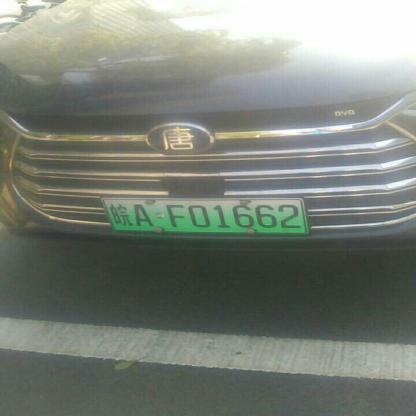lp: (102, 199, 308, 233)
